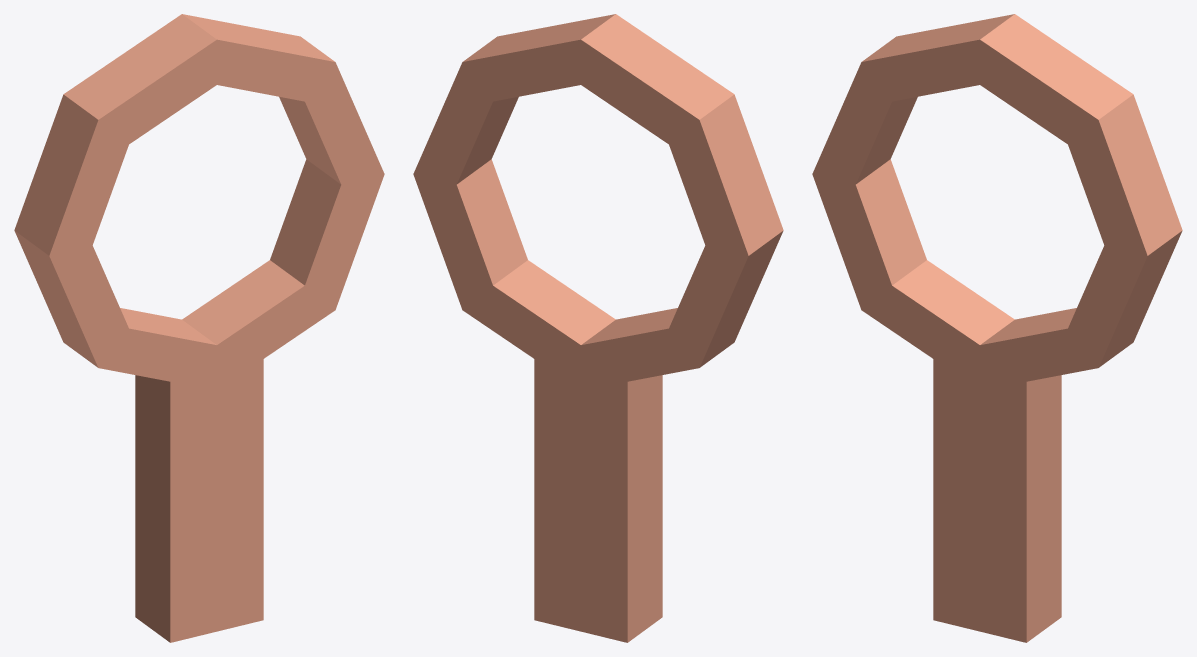
The model's file is pipeStand.fbx.
3 views of the same model, side by side, from view 1: azimuth 30°, elevation 25°; view 2: azimuth 150°, elevation 25°; view 3: azimuth 330°, elevation 25° (orthographic).
Parts seen in each view (by area): view 1: pipeStand; view 2: pipeStand; view 3: pipeStand.
Part boxes in pixels (x1=…): pipeStand: x1=14, y1=14, x2=384, y2=642; pipeStand: x1=413, y1=14, x2=783, y2=642; pipeStand: x1=812, y1=14, x2=1182, y2=642.
Bounding box in the file's own units: 553 × 933 × 100.
